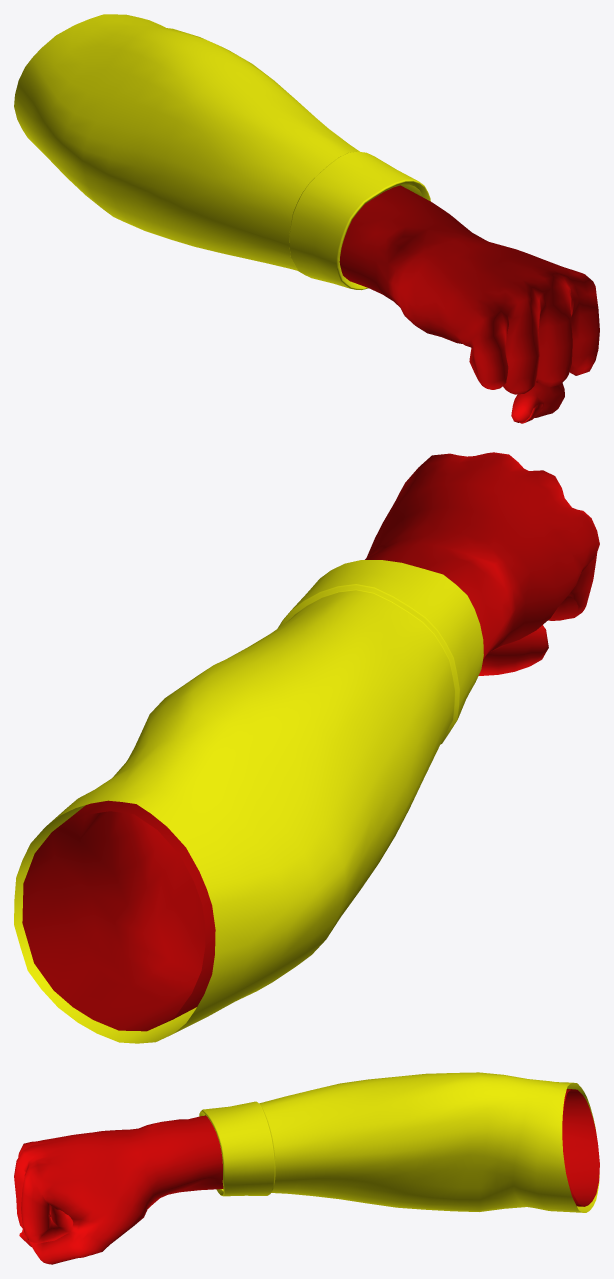
The model's file is bras.fbx.
The picture shows the model from 3 angles, top to bottom: view 1: azimuth 30°, elevation 25°; view 2: azimuth 150°, elevation 25°; view 3: azimuth 270°, elevation 25°; orthographic projection. The views are drawn at different scales.
Parts seen in each view (by area): view 1: Warrior:Mesh_polySurface2; view 2: Warrior:Mesh_polySurface2; view 3: Warrior:Mesh_polySurface2.
Part boxes in pixels (x1,y1,x2,y2): Warrior:Mesh_polySurface2: (14, 14, 599, 423); Warrior:Mesh_polySurface2: (14, 452, 599, 1043); Warrior:Mesh_polySurface2: (14, 1072, 599, 1264).
Size of the model in its own units: 0.2827 by 0.2261 by 0.7875.
